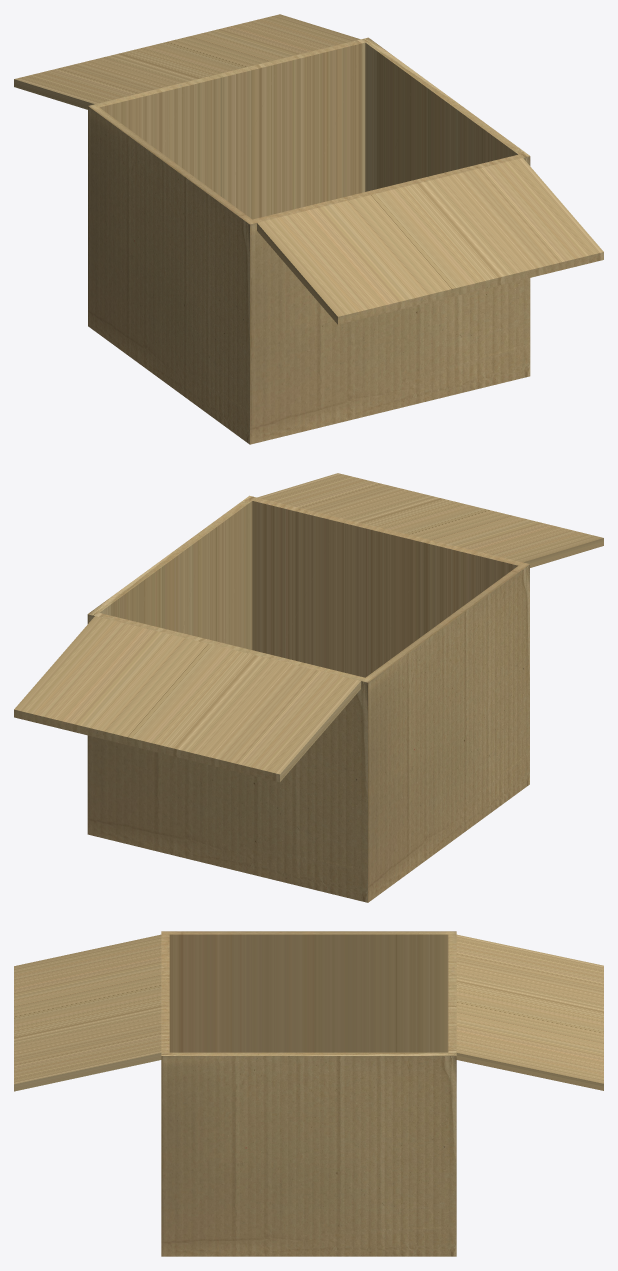
Rendered from Box_Open.FBX.
3 renders of one model, top to bottom at view 1: azimuth 30°, elevation 25°; view 2: azimuth 150°, elevation 25°; view 3: azimuth 270°, elevation 25°, orthographic. The views are drawn at different scales.
Parts seen in each view (by area): view 1: Box001; view 2: Box001; view 3: Box001.
Part boxes in pixels (<box>): Box001: <box>14,14,603,444</box>; Box001: <box>14,473,603,902</box>; Box001: <box>14,931,603,1256</box>.
Bounding box in the file's own units: 100 × 75 × 200.
